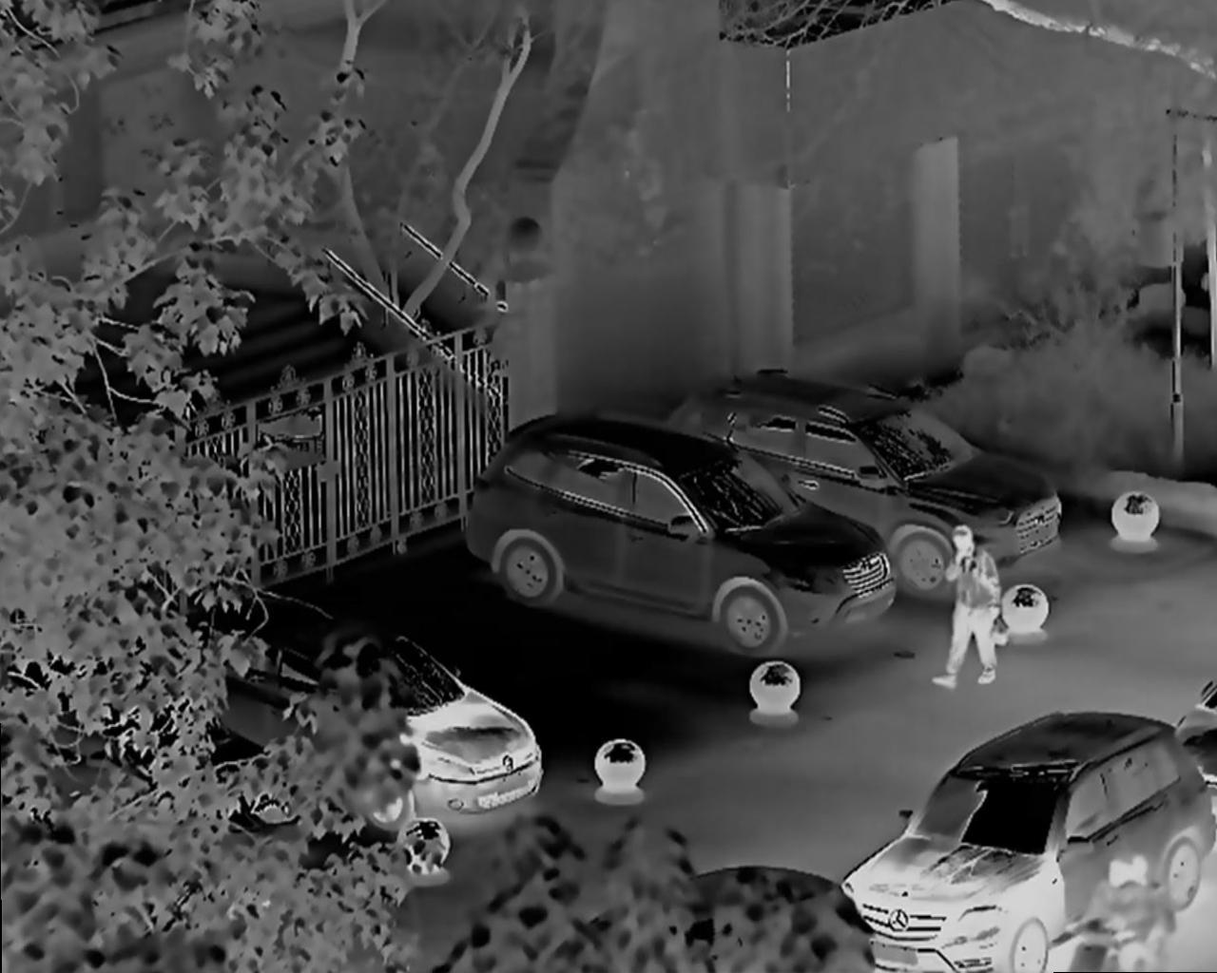person: (938, 518, 1018, 696), (1079, 847, 1168, 968)
